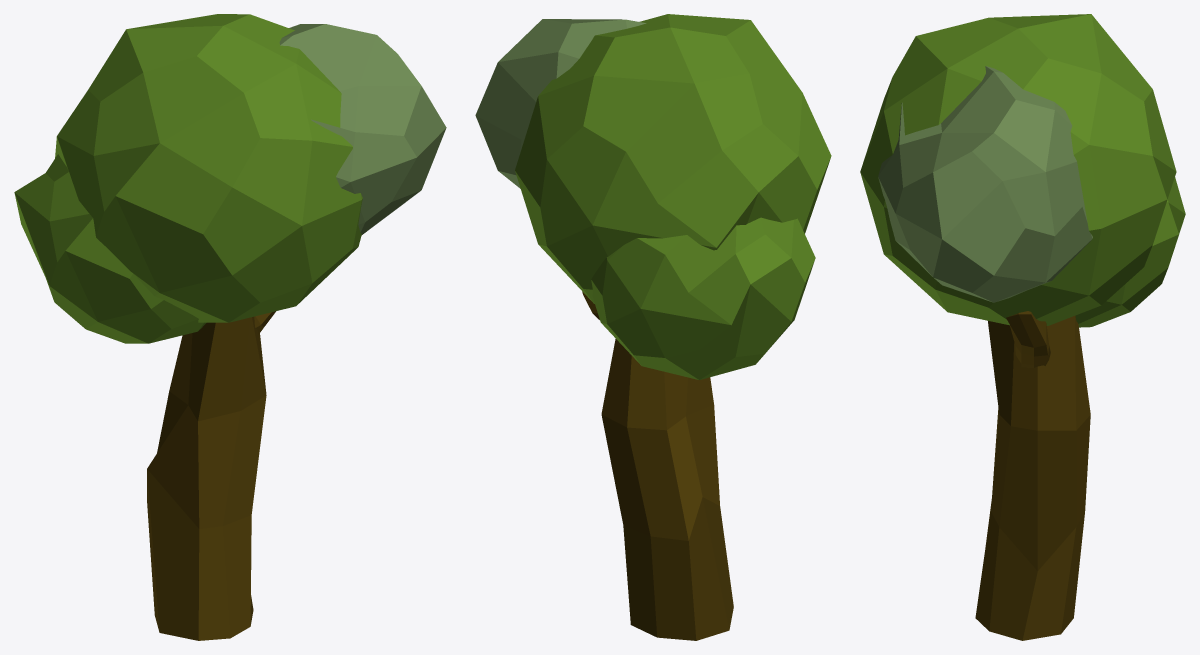
The model's file is Tree1Fix.fbx.
3 views of the same model, side by side, from view 1: azimuth 30°, elevation 25°; view 2: azimuth 150°, elevation 25°; view 3: azimuth 270°, elevation 25° (orthographic).
Parts seen in each view (by area): view 1: pPlatonic3; view 2: pPlatonic3; view 3: pPlatonic3.
Boxes of the visible parts, x1,y1,x2,y2 form: pPlatonic3: (14,14,446,640); pPlatonic3: (475,14,831,640); pPlatonic3: (860,14,1185,640).
Size of the model in its own units: 5.22 by 8.56 by 4.23.
